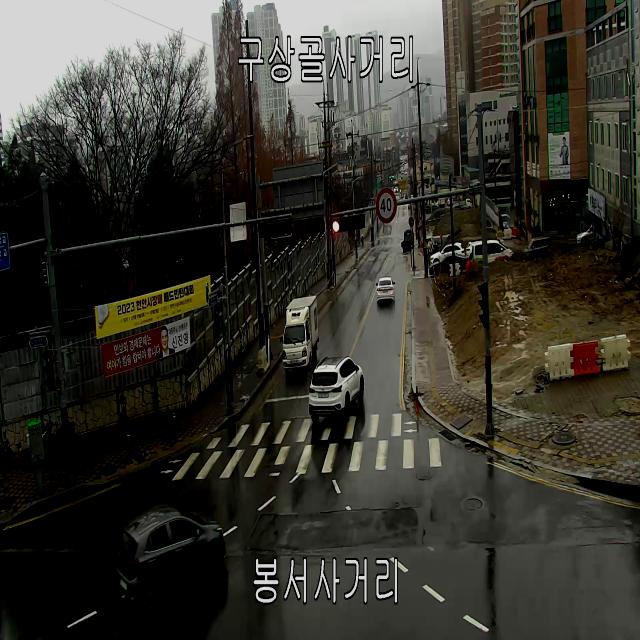Car: (115, 504, 227, 612), (308, 355, 365, 422), (471, 241, 513, 264), (430, 242, 465, 265), (429, 255, 467, 276), (524, 237, 552, 258), (375, 277, 396, 303), (576, 224, 593, 246), (460, 198, 472, 209), (466, 242, 472, 258)
Truck: (280, 294, 319, 375), (401, 229, 414, 252)
